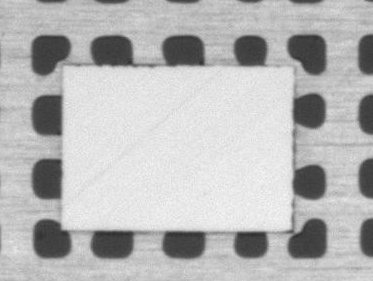DIE_CRACK: (65, 69, 220, 205)
